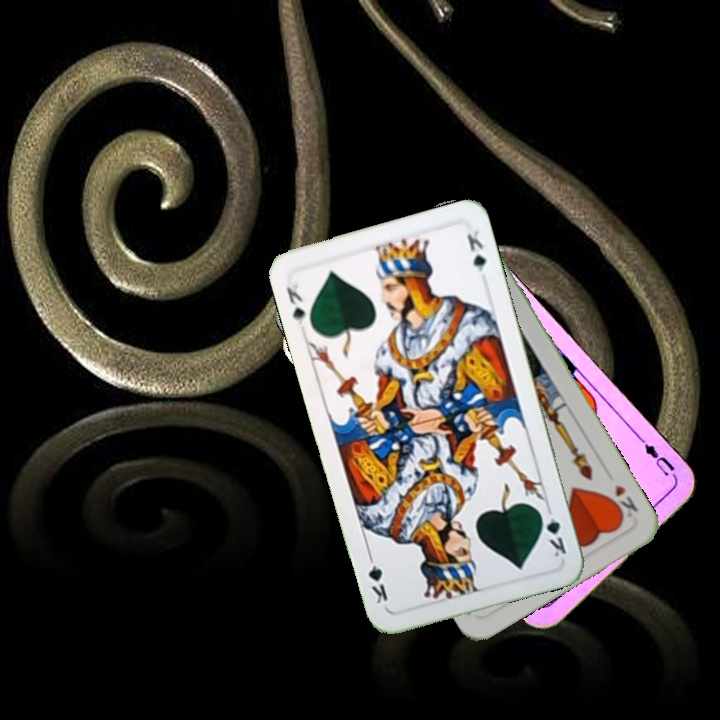EU: (635, 434, 680, 482)
GK: (535, 505, 569, 560), (282, 280, 308, 327)
HK: (611, 480, 641, 521)
